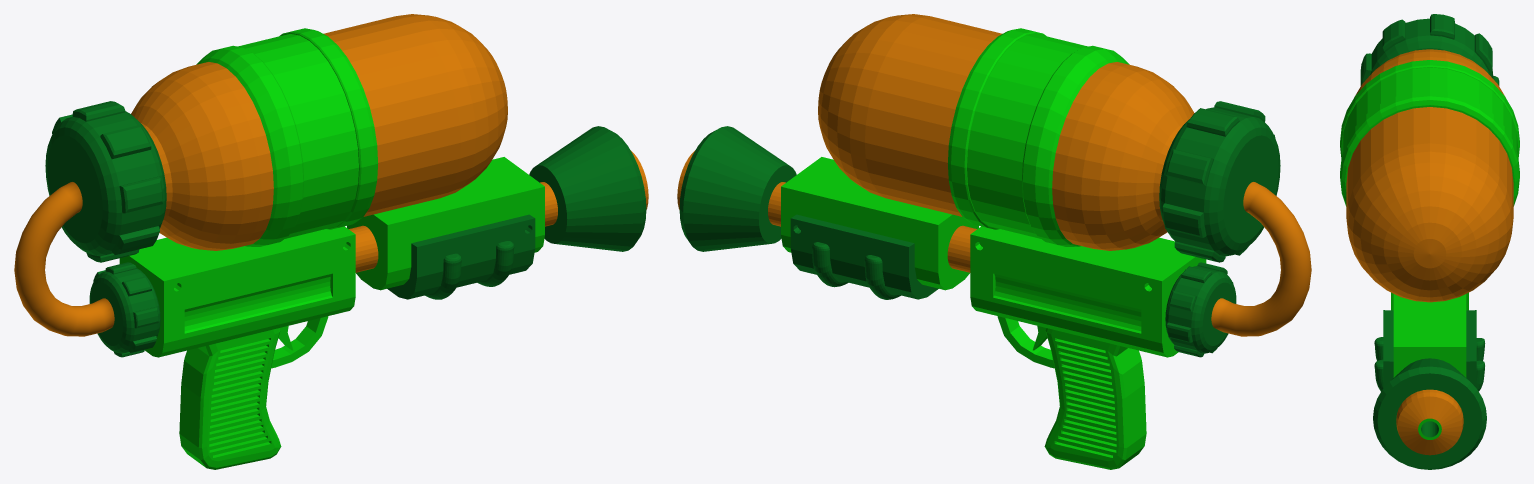
Rendered from splatgun.fbx.
3 renders of one model, left to right at view 1: azimuth 30°, elevation 25°; view 2: azimuth 150°, elevation 25°; view 3: azimuth 270°, elevation 25°, orthographic. The views are drawn at different scales.
Visible parts, largest first — view 1: Splator_Cylinder.003; view 2: Splator_Cylinder.003; view 3: Splator_Cylinder.003.
Part boxes in pixels (left/top/right/bottom): Splator_Cylinder.003: left=14, top=14, right=648, bottom=469; Splator_Cylinder.003: left=677, top=14, right=1311, bottom=469; Splator_Cylinder.003: left=1340, top=14, right=1519, bottom=469.
Size of the model in its own units: 215 by 132 by 60.61.
